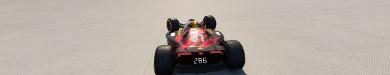Car: (153, 14, 245, 74)
Solid White and black: (131, 0, 180, 74)
grass: (0, 0, 389, 74)
